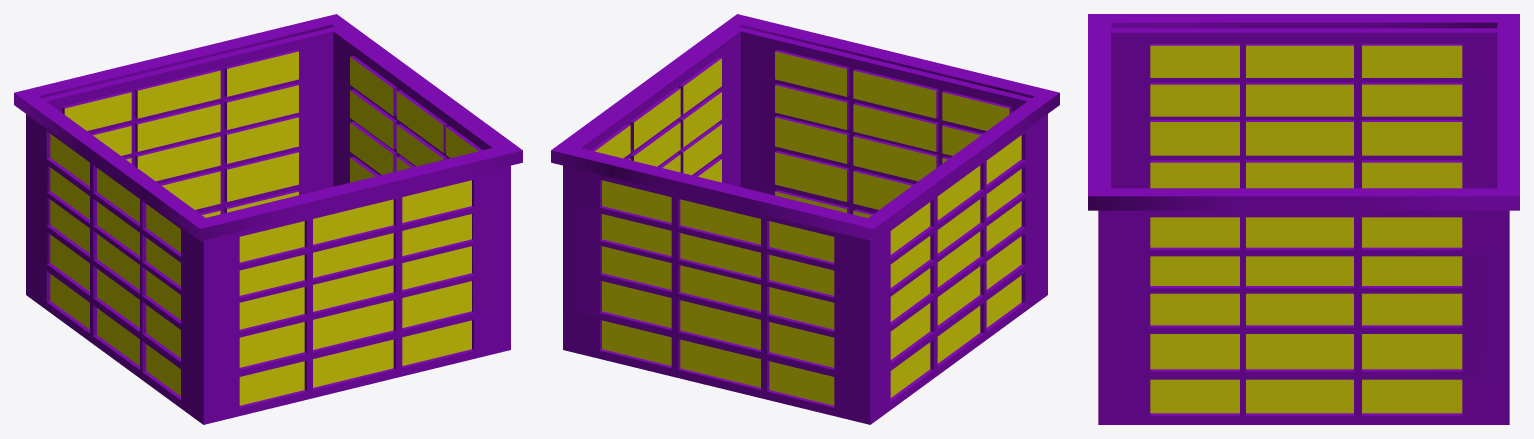
The model's file is Building_Medium_Peice_001.fbx.
3 views of the same model, side by side, from view 1: azimuth 30°, elevation 25°; view 2: azimuth 150°, elevation 25°; view 3: azimuth 270°, elevation 25° (orthographic). The views are drawn at different scales.
Visible parts, largest first — view 1: Building_Medium_Piece_001; view 2: Building_Medium_Piece_001; view 3: Building_Medium_Piece_001.
Boxes of the visible parts, bbox=[...] form: Building_Medium_Piece_001: bbox=[14, 14, 522, 424]; Building_Medium_Piece_001: bbox=[551, 14, 1059, 424]; Building_Medium_Piece_001: bbox=[1088, 14, 1519, 424].
Size of the model in its own units: 6720 by 4000 by 6720.
